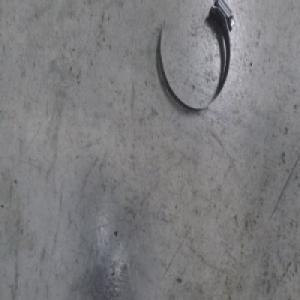AdjustableClamp: (159, 1, 238, 112)
